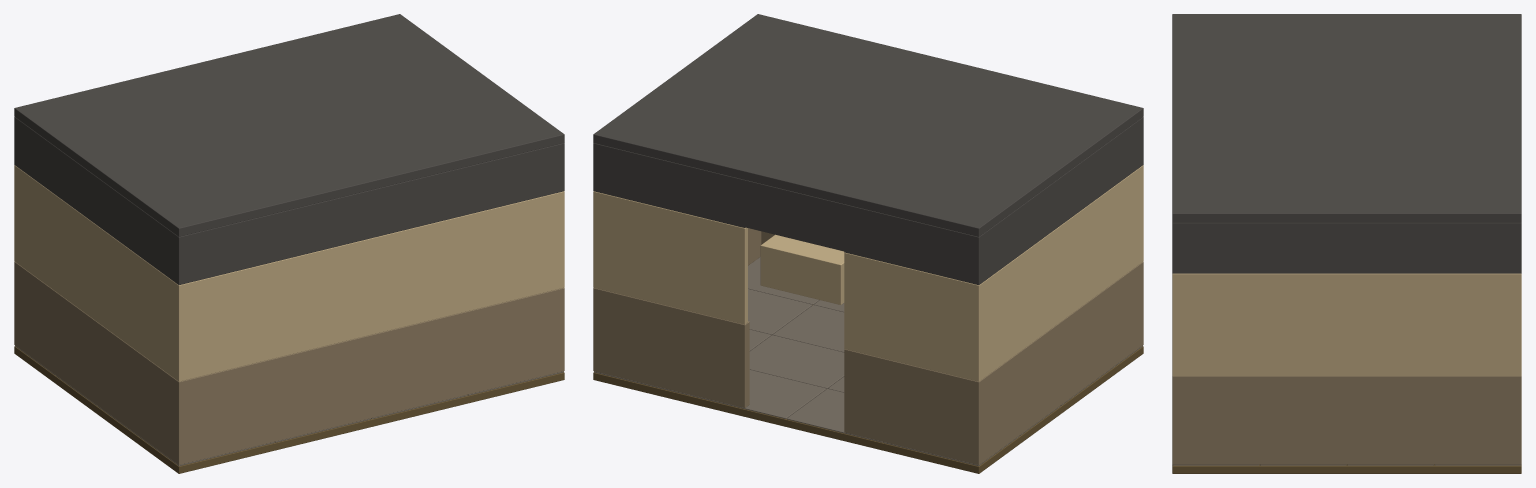
Rendered from gen-galley.glb.
3 views of the same model, side by side, from view 1: azimuth 30°, elevation 25°; view 2: azimuth 150°, elevation 25°; view 3: azimuth 270°, elevation 25° (orthographic). The views are drawn at different scales.
Parts seen in each view (by area): view 1: THE GALLEY; view 2: THE GALLEY; view 3: THE GALLEY.
Boxes of the visible parts, x1=… form: THE GALLEY: x1=14, y1=14, x2=564, y2=473; THE GALLEY: x1=593, y1=14, x2=1143, y2=473; THE GALLEY: x1=1172, y1=14, x2=1521, y2=473.
Bounding box in the file's own units: 4.6 × 2.8 × 3.4.
